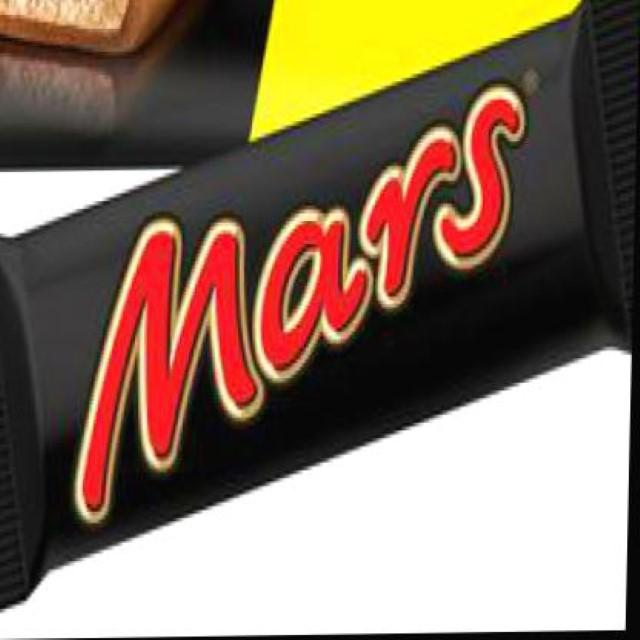mars_chocolate: (0, 55, 586, 580)
